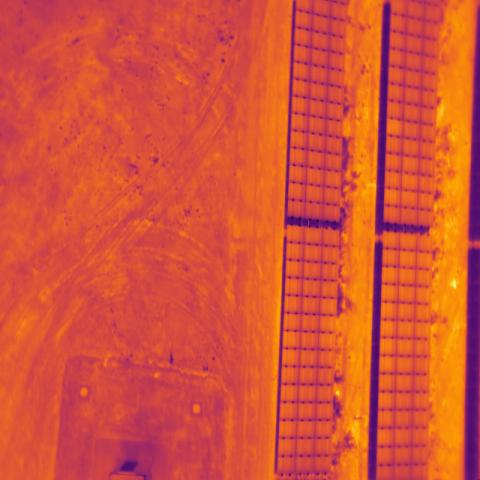fault: (386, 119, 404, 139)
